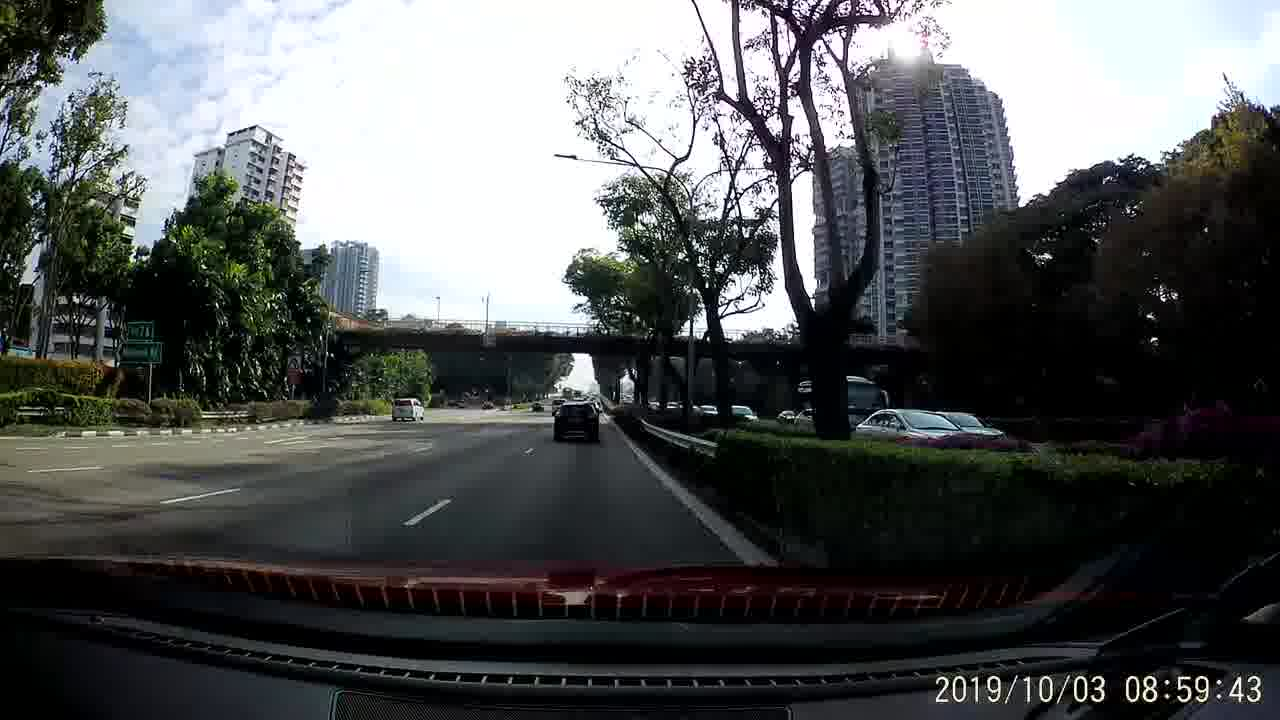bus: (794, 379, 888, 427)
car: (855, 406, 971, 445), (937, 412, 1013, 440), (555, 401, 600, 445), (389, 396, 424, 422)
